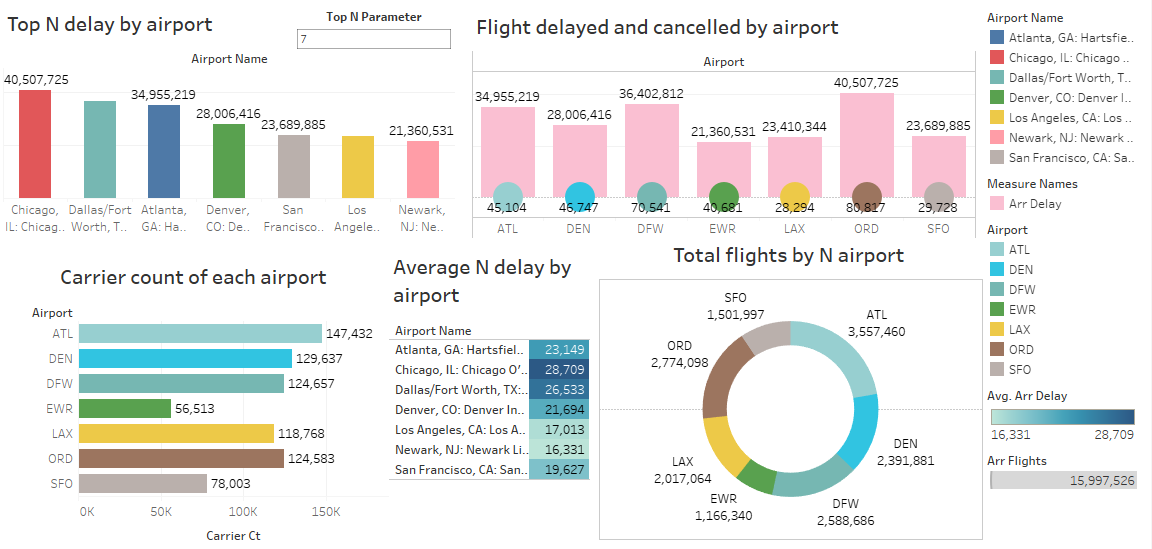

The dashboard page shown, as its layout file describes it:
{"tool":"tableau","page":{"name":"Dashboard 3","canvas":[1000,1000],"units":"permille","ordinal":1},"visuals":[{"type":"worksheet","title":"Sheet 9","mark":"Automatic","rows":["arr_delay"],"cols":["airport_name"],"box":[6.1,14.5,391.3,422.1]},{"type":"legend","title":"Sheet 9","param":"[federated.16tr0iu0la0rbz14hj3gu0cn3j2k].[none:airport_name:nk]","box":[854.5,14.5,138.5,300.7]},{"type":"parameter","param":"[Parameters].[Parameter 1]","box":[258,19.9,138.5,79.7]},{"type":"worksheet","title":"Sheet 10","mark":"Automatic","rows":["arr_delay","arr_cancelled"],"cols":["airport"],"box":[412.1,19.9,436.4,418.5]},{"type":"legend","title":"Sheet 10","param":"[federated.16tr0iu0la0rbz14hj3gu0cn3j2k].[:Measure Names]","box":[854.5,315.2,138.5,83.3]},{"type":"legend","title":"Sheet 10","param":"[federated.16tr0iu0la0rbz14hj3gu0cn3j2k].[none:airport:nk]","box":[854.5,398.5,138.5,300.7]},{"type":"worksheet","title":"Sheet 13","mark":"Pie","rows":["Calculation_745345751347347480","Calculation_745345751347347480"],"box":[522.1,433,332.5,550.7]},{"type":"worksheet","title":"Sheet 9 (2)","mark":"Square","rows":["airport_name"],"box":[340.3,454.7,178.3,545.3]},{"type":"worksheet","title":"Sheet 14","mark":"Automatic","rows":["airport"],"cols":["carrier_ct"],"box":[1.7,472.8,338.5,530.8]},{"type":"legend","title":"Sheet 9 (2)","param":"[federated.16tr0iu0la0rbz14hj3gu0cn3j2k].[avg:arr_delay:qk]","box":[854.5,699.3,138.5,117.8]},{"type":"legend","title":"Sheet 13","param":"[federated.16tr0iu0la0rbz14hj3gu0cn3j2k].[sum:arr_flights:qk]","box":[854.5,817,138.5,83.3]}]}

Visuals, with their boxes on the dashboard's canvas, which has no fixed pixel size, in thousandths of its width and height (x1, y1, x2, y2). These are canvas units, not pixel positions in the 1152x549 screenshot, which may show the page scaled, cropped or inside an application window:
"Sheet 9" worksheet: (6,14,397,437)
"Sheet 9" legend: (854,14,993,315)
parameter: (258,20,396,100)
"Sheet 10" worksheet: (412,20,848,438)
"Sheet 10" legend: (854,315,993,398)
"Sheet 10" legend: (854,398,993,699)
"Sheet 13" worksheet (Pie marks): (522,433,855,984)
"Sheet 9 (2)" worksheet (Square marks): (340,455,519,1000)
"Sheet 14" worksheet: (2,473,340,1004)
"Sheet 9 (2)" legend: (854,699,993,817)
"Sheet 13" legend: (854,817,993,900)
